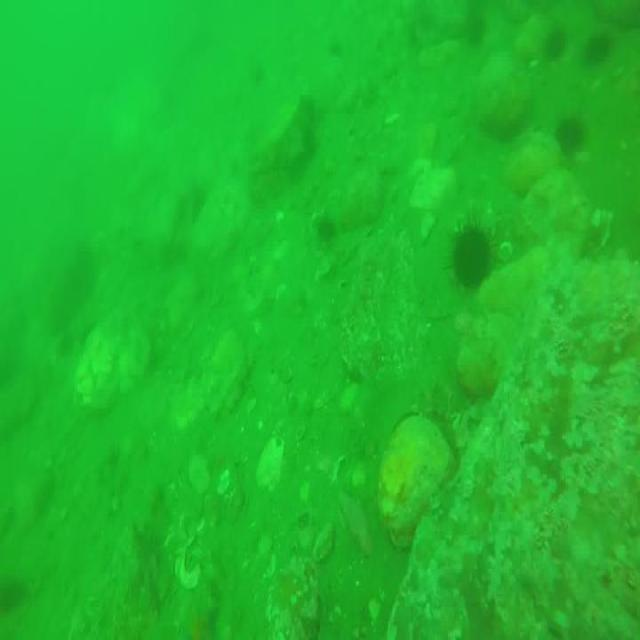echinus: (450, 220, 490, 292), (556, 116, 590, 162), (586, 33, 614, 63), (553, 25, 565, 60)
